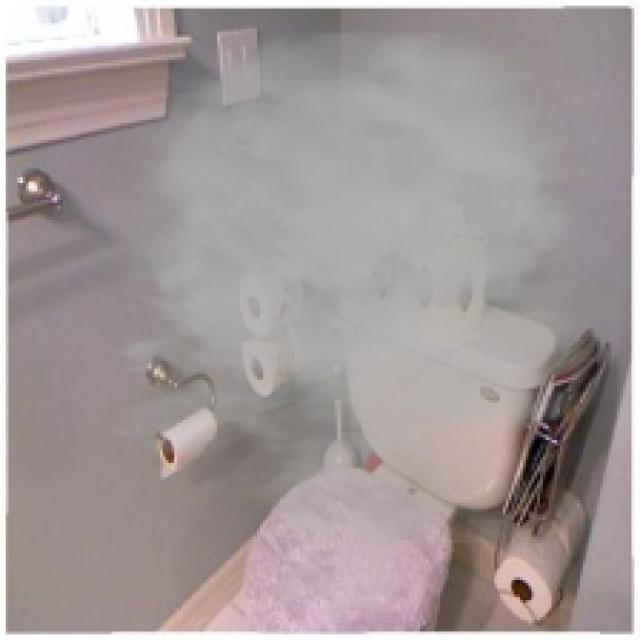smoke: (54, 0, 620, 543)
